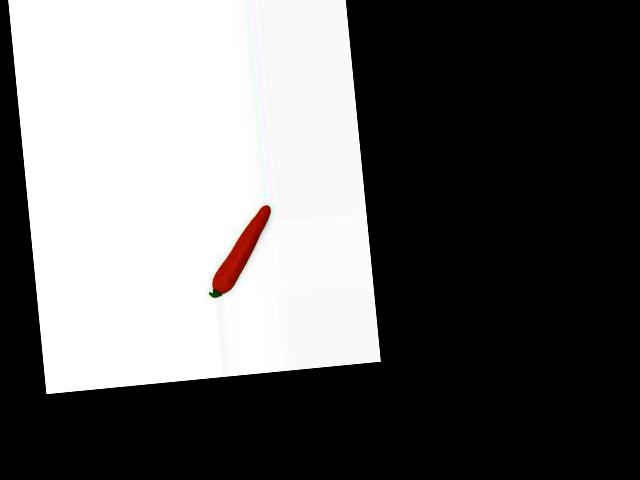carrot: (204, 203, 278, 295)
